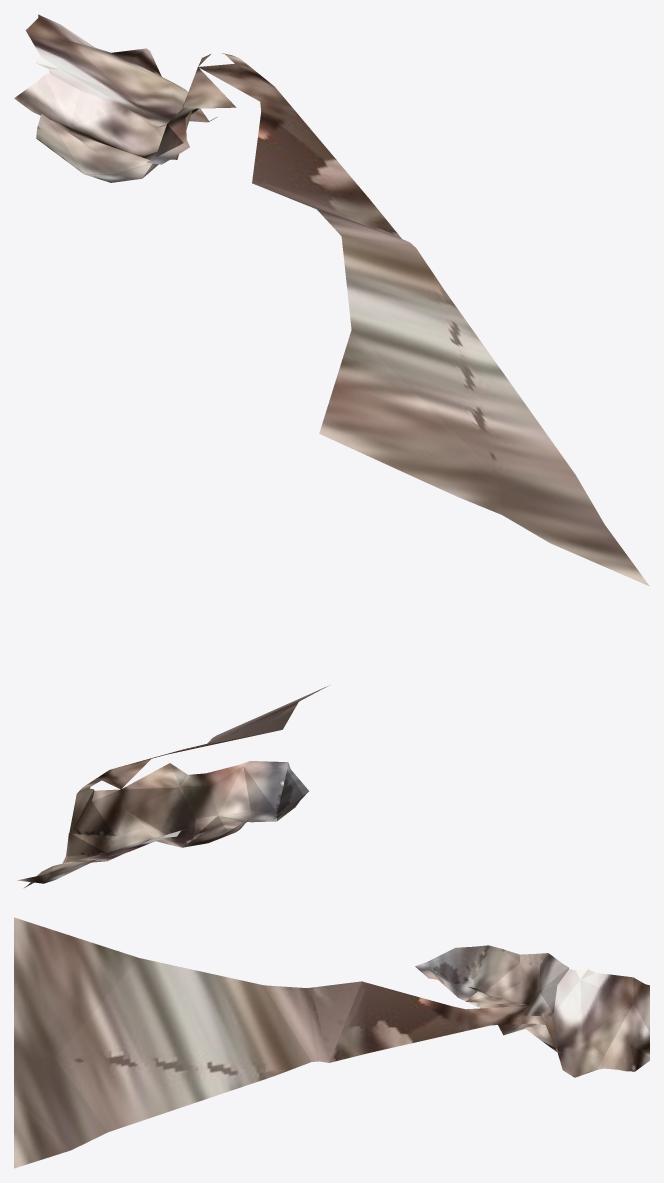
The picture shows the model from 3 angles, top to bottom: view 1: azimuth 30°, elevation 25°; view 2: azimuth 150°, elevation 25°; view 3: azimuth 270°, elevation 25°; orthographic projection. The views are drawn at different scales.
Size of the model in its own units: 0.6399 by 0.4317 by 1.67.
Materials: 1 (1 with a texture image).
